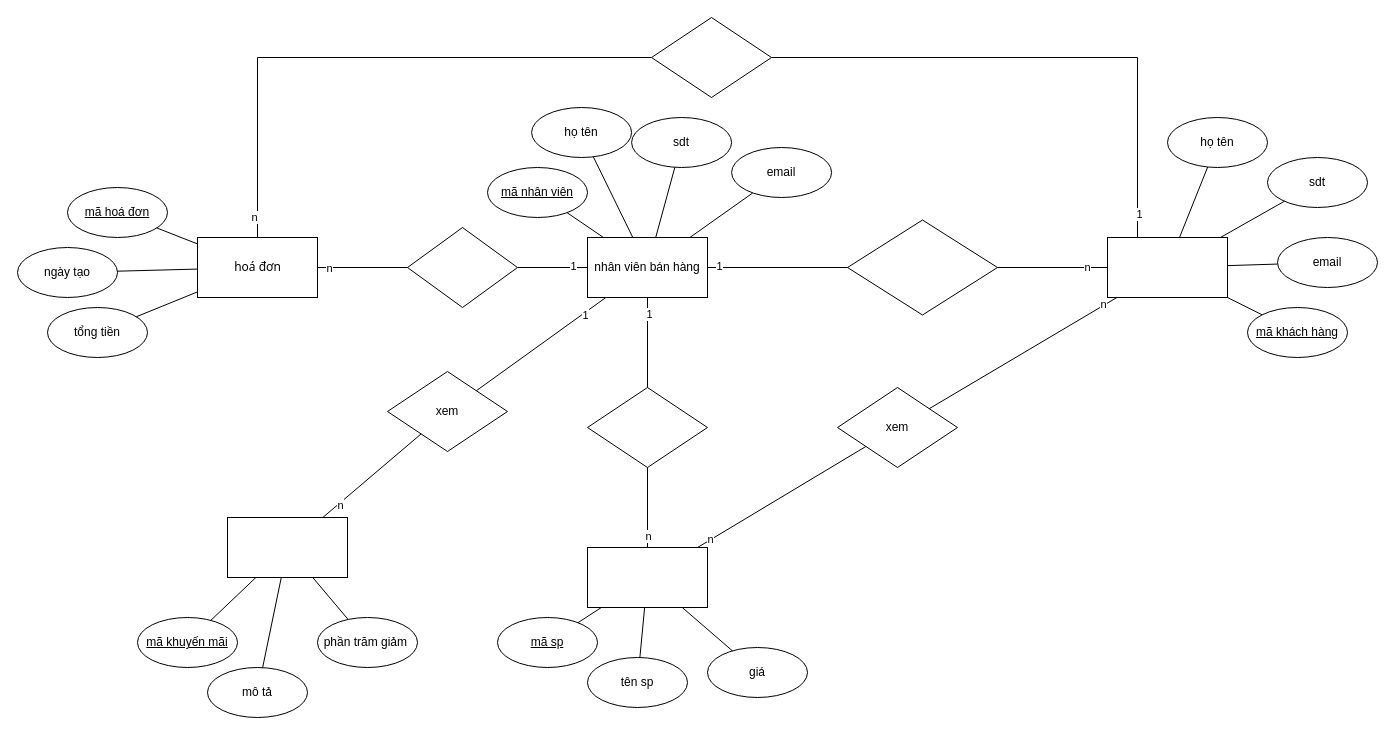
Image size: 1395x735. Some labels were removed from this diagram. Each missing label, with the centre of its shape:
khuyến mãi: pixel 287 547
khách hàng: pixel 1167 267
sản phẩm: pixel 647 577
thanh toán: pixel 711 57
thêm sản phẩm: pixel 647 427
tạo: pixel 462 267
yêu cầu mua sản phẩm: pixel 922 267
